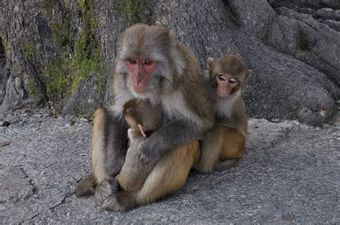monkey: (189, 41, 286, 170), (96, 16, 179, 127), (111, 100, 184, 202)
